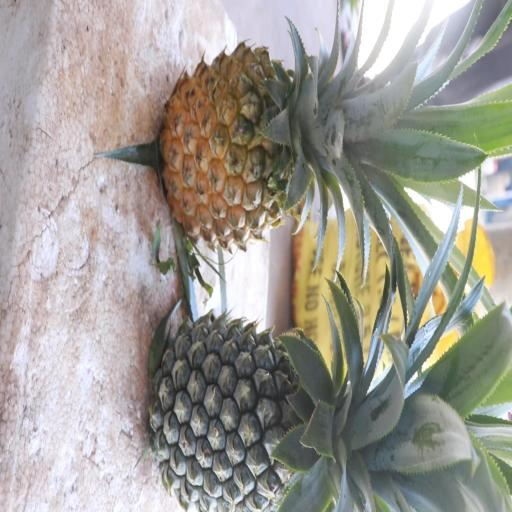Pineapple - v8 v1: (161, 38, 444, 260)
